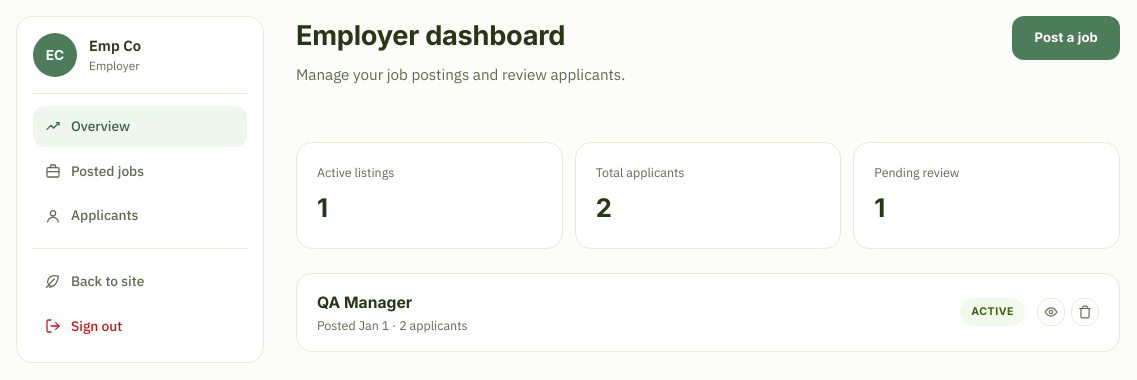
Test: EmployerDashboard applicants list — no match-score column (story-auth-10 AC#3) › Applicants tab lists candidate, role, status, and a resume link (AC#3)
Click the button "Applicants".
click(140, 216)  # box [33, 195, 247, 236]
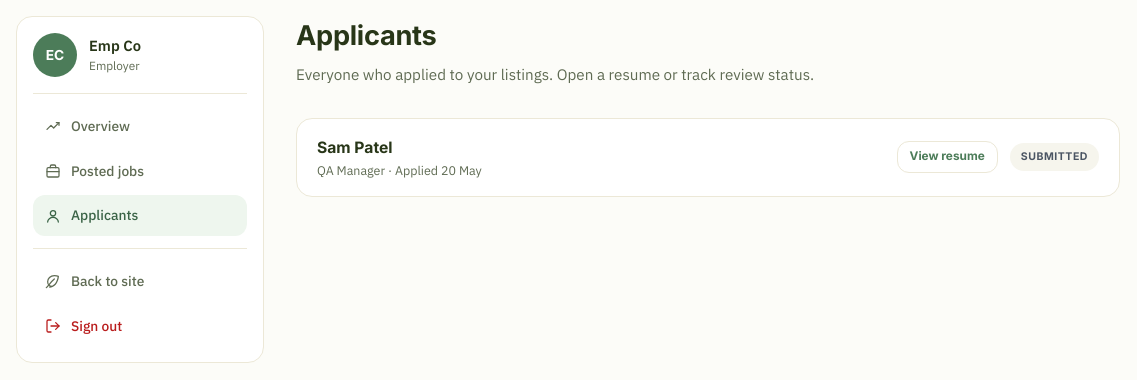
Expected: the text "Sam Patel" is shown, [317, 138, 393, 157]
Expected: the text "QA Manager · Applied 20 May" is shown, [317, 162, 482, 178]
Expected: the text "Submitted" is shown, [1010, 143, 1099, 171]
